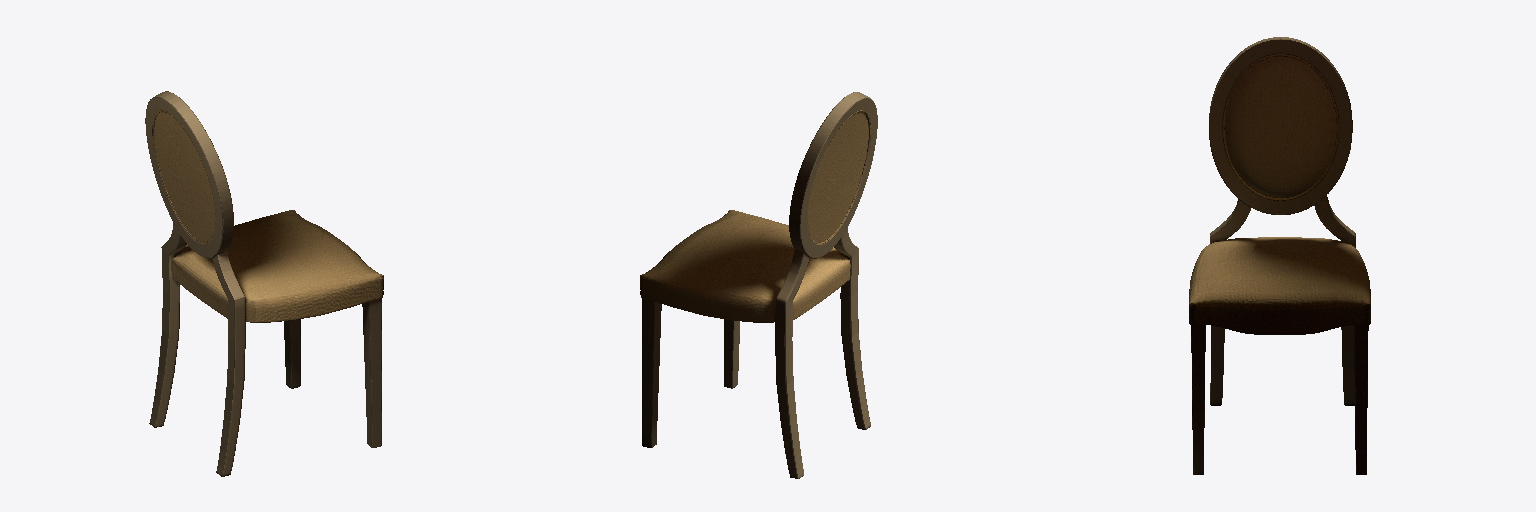
3 renders of one model, left to right at view 1: azimuth 30°, elevation 25°; view 2: azimuth 150°, elevation 25°; view 3: azimuth 270°, elevation 25°, orthographic.
Visible parts, largest first — view 1: stoolBaked BedroomBakedTriExport; view 2: stoolBaked BedroomBakedTriExport; view 3: stoolBaked BedroomBakedTriExport.
Part boxes in pixels (left/top/right/bottom): stoolBaked BedroomBakedTriExport: left=145, top=91, right=383, bottom=476; stoolBaked BedroomBakedTriExport: left=640, top=92, right=877, bottom=478; stoolBaked BedroomBakedTriExport: left=1189, top=37, right=1370, bottom=474.
Size of the model in its own units: 0.621 by 1.2 by 0.5529.
Materials: 1 (1 with a texture image).